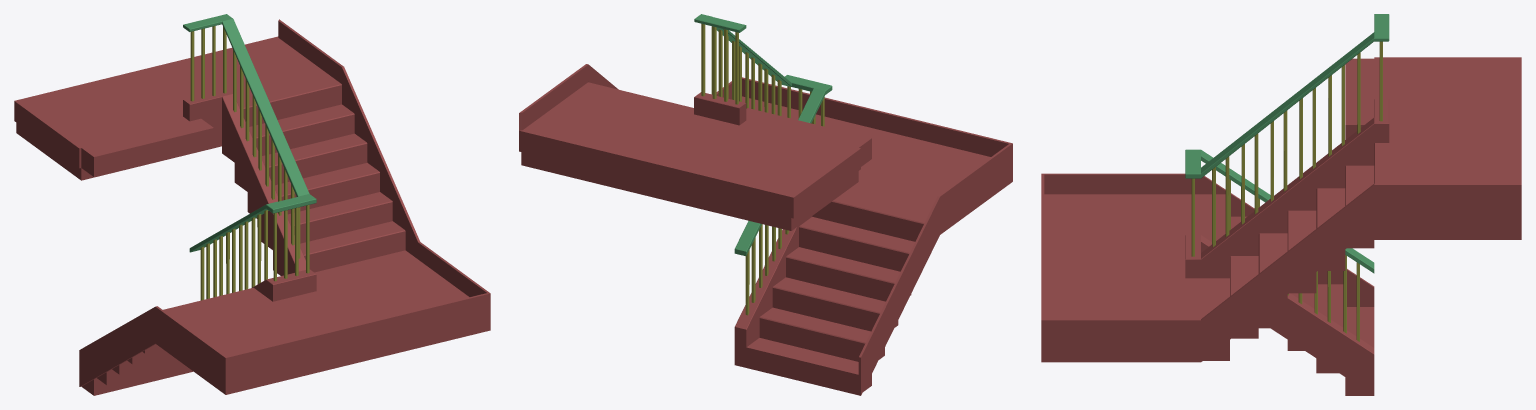
Rendered from Staircase_Update.FBX.
3 views of the same model, side by side, from view 1: azimuth 30°, elevation 25°; view 2: azimuth 150°, elevation 25°; view 3: azimuth 270°, elevation 25° (orthographic). The views are drawn at different scales.
Parts seen in each view (by area): view 1: Staircase_Unity; view 2: Staircase_Unity; view 3: Staircase_Unity.
Part boxes in pixels (x1,y1,x2,y2): Staircase_Unity: (14,14,490,395); Staircase_Unity: (519,14,1012,395); Staircase_Unity: (1041,14,1521,395).
Bounding box in the file's own units: 41722 × 49786 × 57689.
